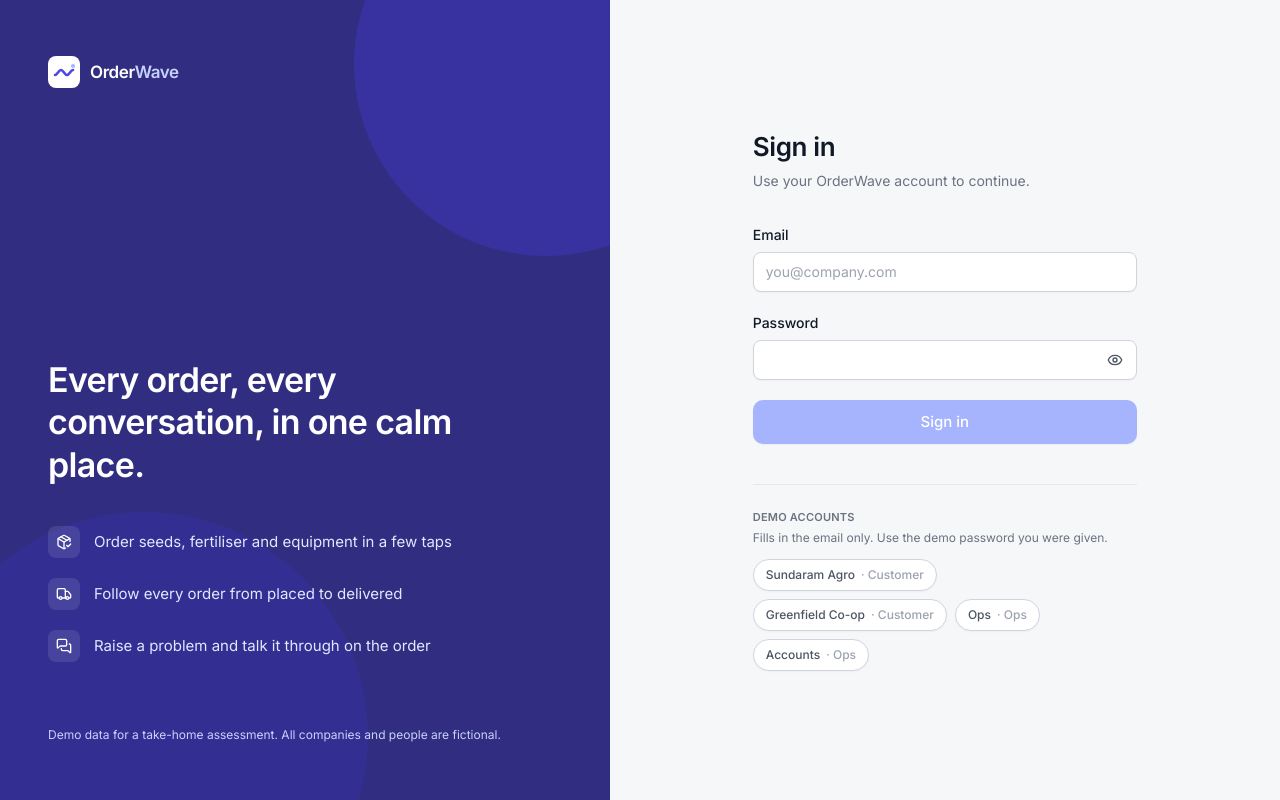
Test: login › demo chips fill only the email, never the password
The width and height of the screenshot is (1280, 800).
Click the button with aria-label "ops@orderwave.demo" at (997, 614), box [955, 598, 1040, 630]
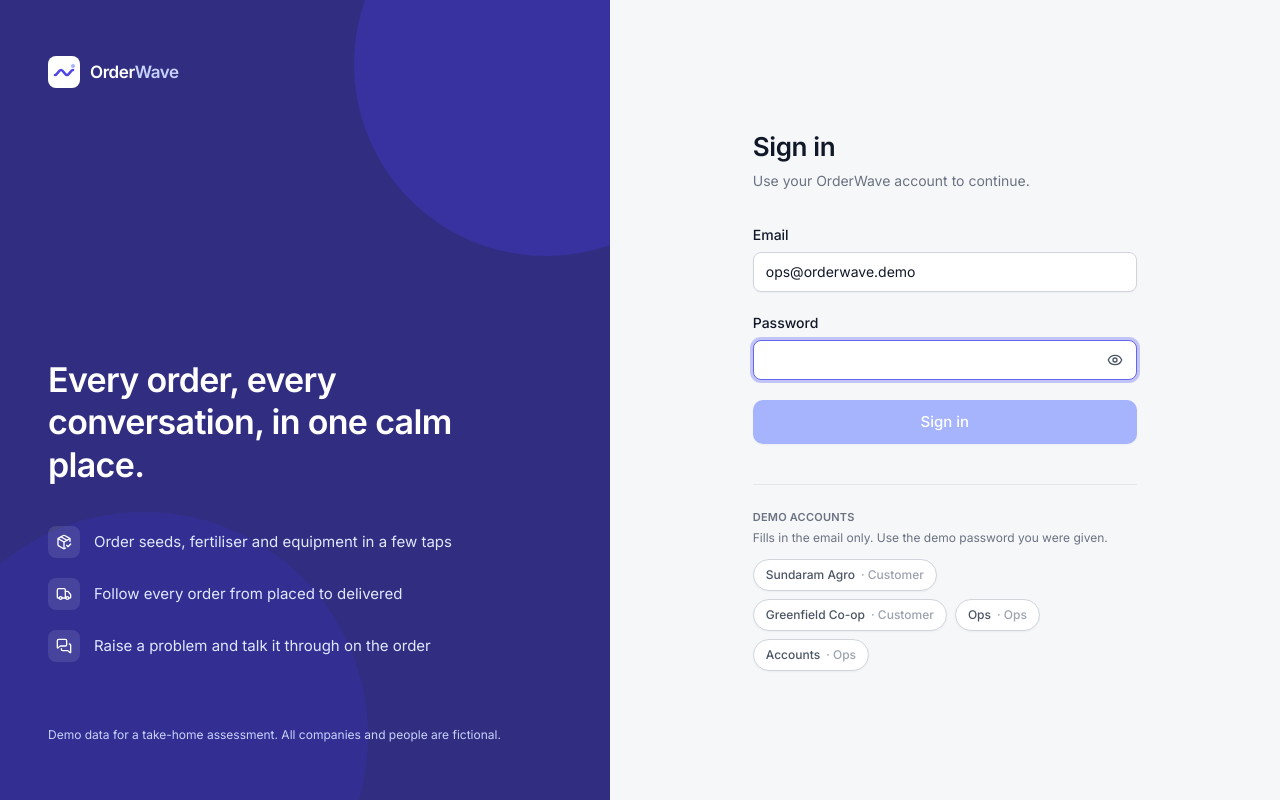
Expected: the password field labelled "Password" is empty, [753, 340, 1137, 380]
Now the field labelled "Email" holds "ops@orderwave.demo", box [753, 252, 1137, 292]
